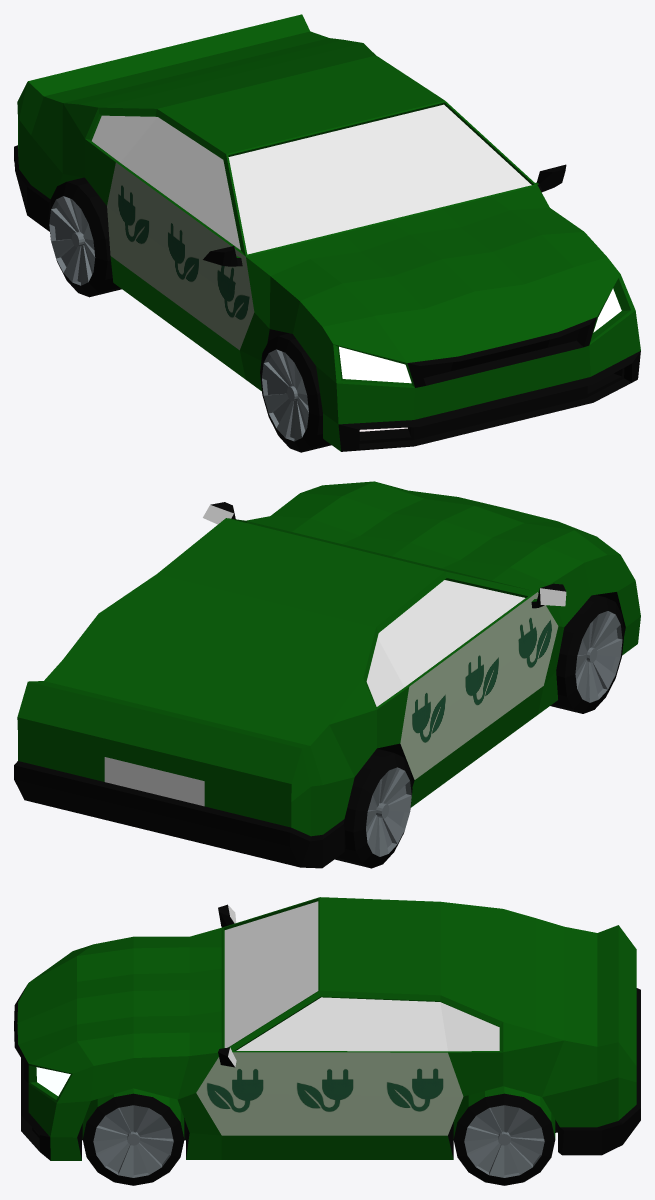
The model's file is Car.glb.
3 renders of one model, top to bottom at view 1: azimuth 30°, elevation 25°; view 2: azimuth 150°, elevation 25°; view 3: azimuth 270°, elevation 25°, orthographic. The views are drawn at different scales.
Parts seen in each view (by area): view 1: Low Poly Sports Car, Low Poly Sports Car.003, Low Poly Sports Car.001; view 2: Low Poly Sports Car, Low Poly Sports Car.003, Low Poly Sports Car.001; view 3: Low Poly Sports Car, Low Poly Sports Car.004, Low Poly Sports Car.002.
Boxes of the visible parts, x1,y1,x2,y2 form: Low Poly Sports Car: [14, 14, 640, 451]; Low Poly Sports Car.003: [48, 177, 121, 297]; Low Poly Sports Car.001: [260, 333, 331, 452]; Low Poly Sports Car: [14, 481, 640, 868]; Low Poly Sports Car.003: [335, 749, 412, 868]; Low Poly Sports Car.001: [550, 595, 624, 713]; Low Poly Sports Car: [14, 897, 640, 1160]; Low Poly Sports Car.004: [453, 1086, 555, 1185]; Low Poly Sports Car.002: [82, 1088, 184, 1185].
Bounding box in the file's own units: 2.6 × 1.41 × 4.46.
10 materials, 1 textured.
